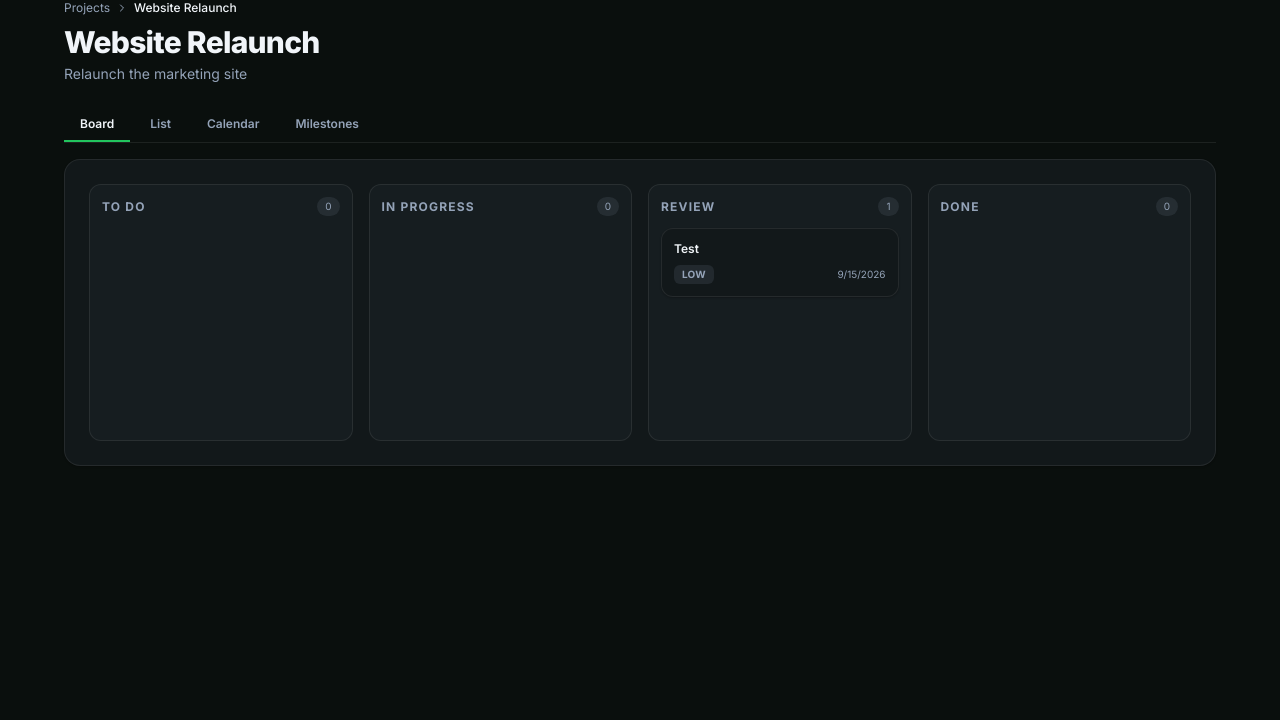
ProjectDetailPage — task drawer regression (subtasks missing from list response) › opens the task drawer from the Kanban board without crashing
Click the heading "Test": [686, 248] box top-left (674, 241), bottom-right (699, 256)
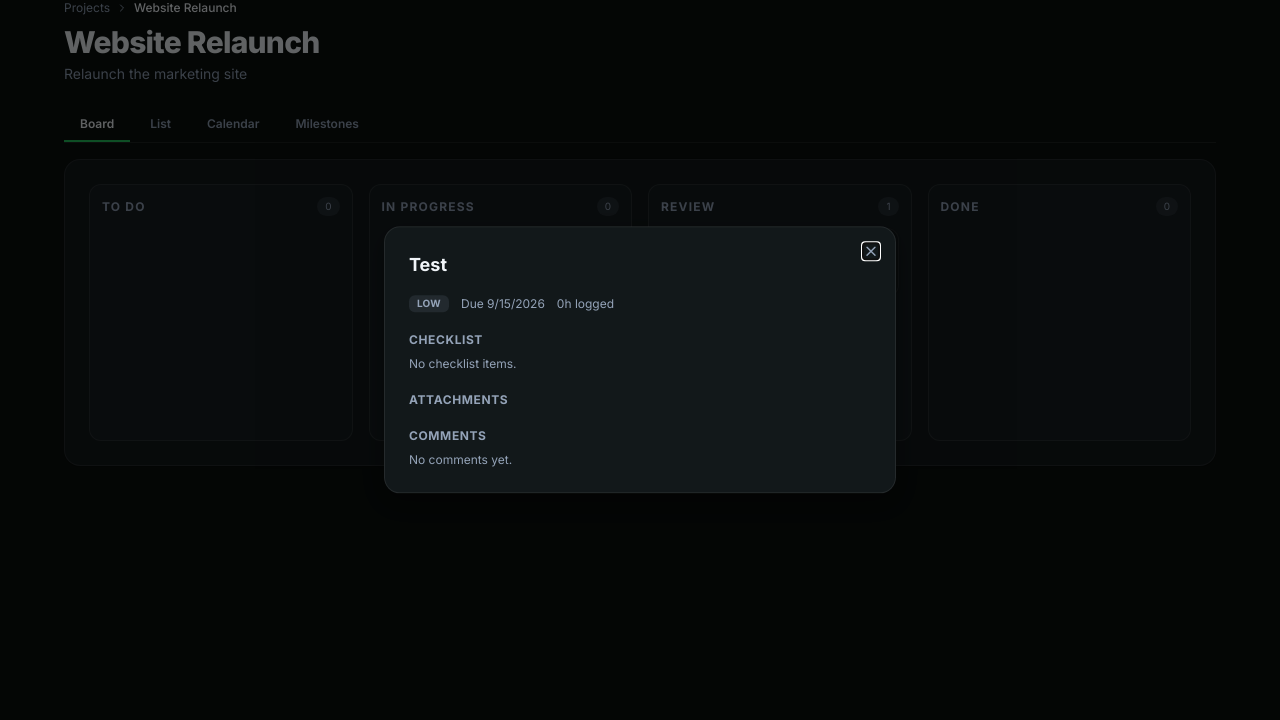
Check: the text "No checklist items." is shown, box top-left (409, 357), bottom-right (516, 372)
